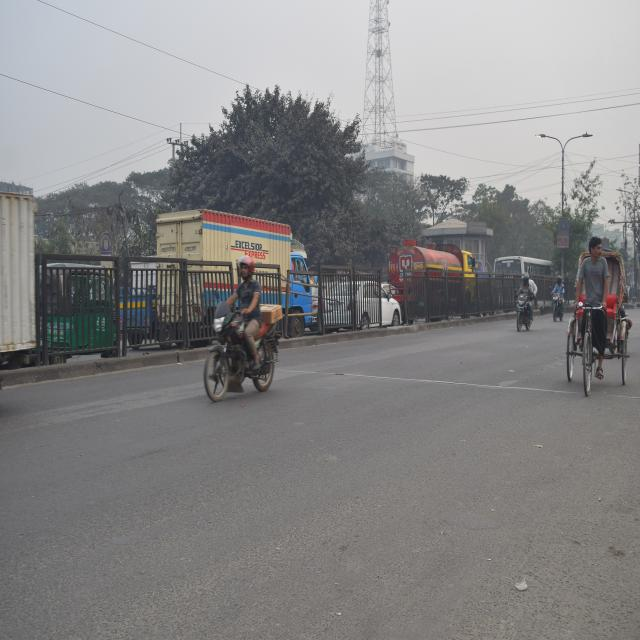car: (325, 275, 399, 344)
motorbike: (200, 260, 290, 406), (508, 282, 543, 336), (544, 282, 576, 322)
pickup-van: (151, 209, 317, 344)
truck: (388, 226, 486, 327)
